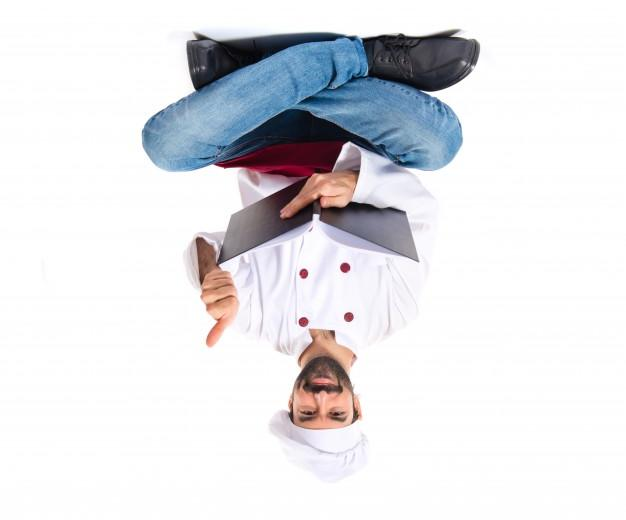thumbsdown: (199, 270, 239, 349)
